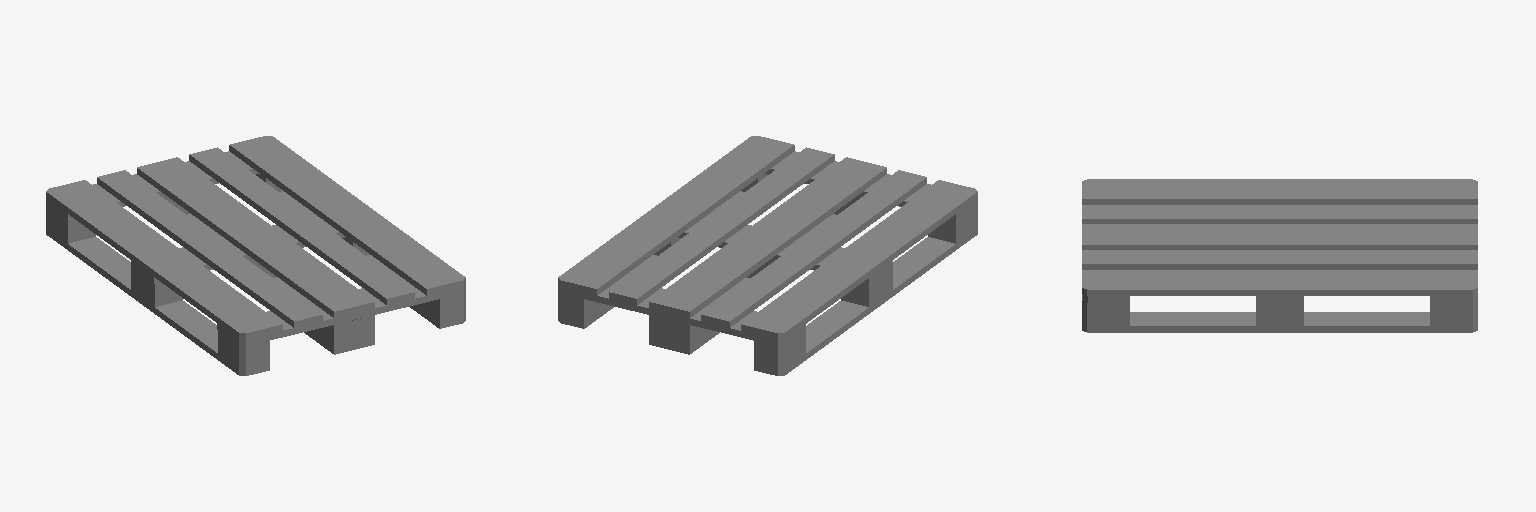
File: Pallet.obj
3 views of the same model, side by side, from view 1: azimuth 30°, elevation 25°; view 2: azimuth 150°, elevation 25°; view 3: azimuth 270°, elevation 25° (orthographic).
Visible parts, largest first — view 1: default; view 2: default; view 3: default.
Boxes of the visible parts, box(x1,y1,x2,y2) form: default: box(46, 136, 465, 375); default: box(558, 136, 977, 375); default: box(1082, 179, 1477, 332).
Size of the model in its own units: 3.98 by 0.72 by 6.